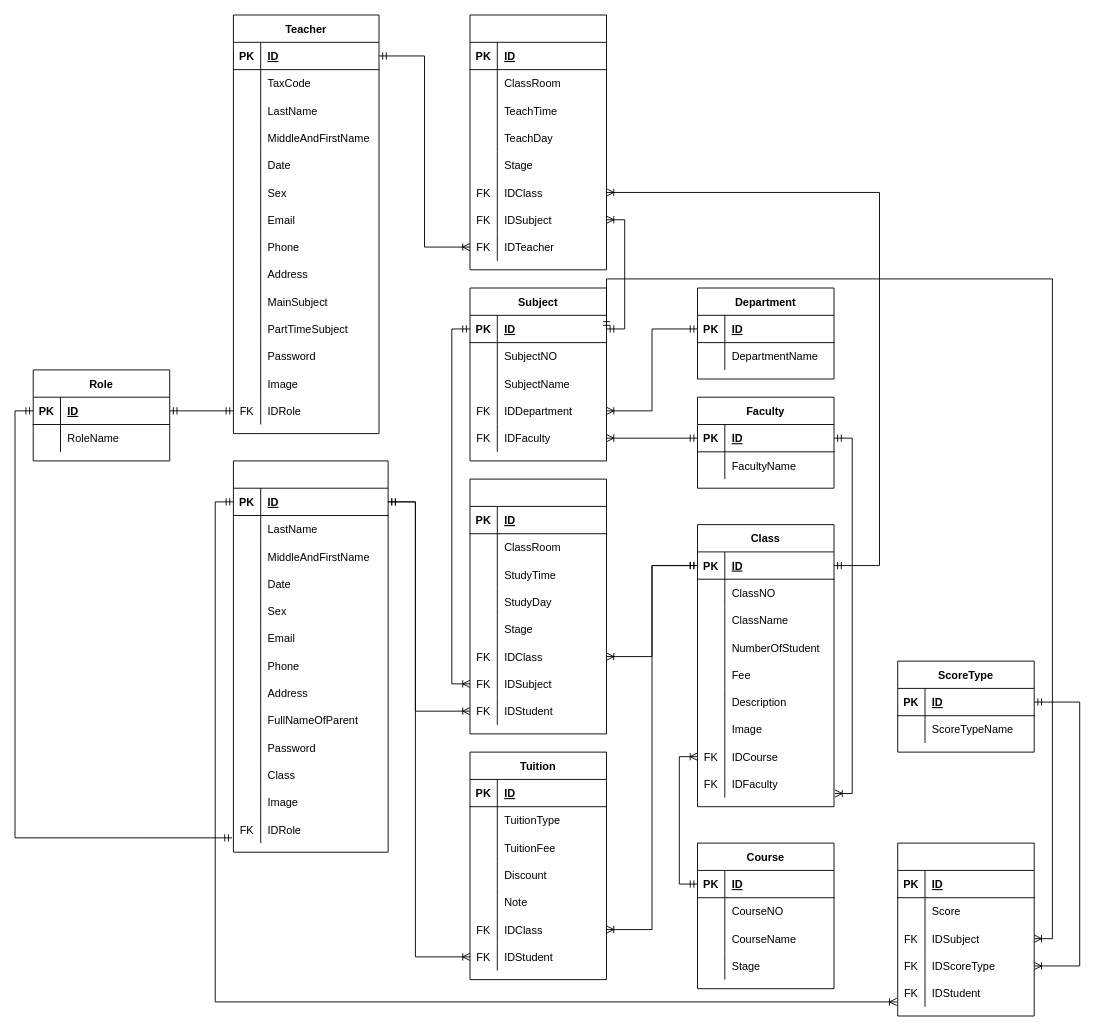
Some shapes in this 1095 by 1031 pixel diagram are drawn without their labels. Each missing label, with the box of its shape:
Result: (897, 842, 1034, 1016)
Schedule: (469, 478, 607, 734)
Student: (233, 460, 388, 852)
TeachingSchedule: (469, 14, 607, 270)
